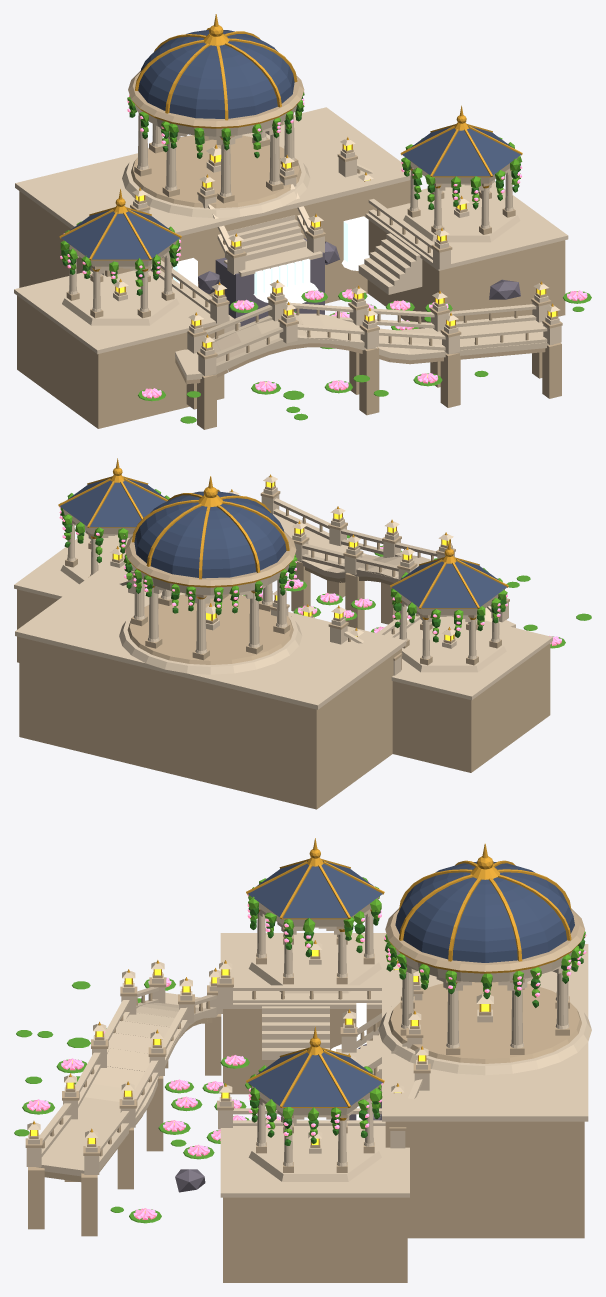
Rendered from lotus-garden.glb.
3 views of the same model, one above another, from view 1: azimuth 30°, elevation 25°; view 2: azimuth 150°, elevation 25°; view 3: azimuth 270°, elevation 25° (orthographic). The views are drawn at different scales.
Parts seen in each view (by area): view 1: Lotus_Marble_Cream, Lotus_Marble_Dark, Lotus_Slate_Roof, Lotus_Gold_Trim, Lotus_Waterfall_Foam, Lotus_Rock_Grey, Lotus_Foliage_Bright, Lotus_Pad_Green, Lotus_Flower_Pink, Lotus_Foliage_Dark, Lotus_Lantern_Glow; view 2: Lotus_Marble_Dark, Lotus_Marble_Cream, Lotus_Slate_Roof, Lotus_Gold_Trim, Lotus_Foliage_Bright, Lotus_Foliage_Dark, Lotus_Flower_Pink, Lotus_Pad_Green, Lotus_Lantern_Glow; view 3: Lotus_Marble_Cream, Lotus_Marble_Dark, Lotus_Slate_Roof, Lotus_Gold_Trim, Lotus_Foliage_Bright, Lotus_Flower_Pink, Lotus_Pad_Green, Lotus_Foliage_Dark, Lotus_Lantern_Glow, Lotus_Rock_Grey.
Part boxes in pixels (x1,y1,x2,y2): Lotus_Marble_Cream: (14,104,568,380); Lotus_Marble_Dark: (17,71,565,429); Lotus_Slate_Roof: (61,30,520,259); Lotus_Gold_Trim: (59,14,557,348); Lotus_Waterfall_Foam: (173,216,369,303); Lotus_Rock_Grey: (198,238,520,326); Lotus_Foliage_Bright: (60,92,522,286); Lotus_Pad_Green: (138,289,591,423); Lotus_Flower_Pink: (60,91,587,398); Lotus_Foliage_Dark: (61,96,520,295); Lotus_Lantern_Glow: (116,144,556,347); Lotus_Marble_Dark: (17,485,550,809); Lotus_Marble_Cream: (14,476,552,709); Lotus_Slate_Roof: (60,478,506,608); Lotus_Gold_Trim: (58,458,508,641); Lotus_Foliage_Bright: (60,489,507,635); Lotus_Foliage_Dark: (60,511,506,642); Lotus_Flower_Pink: (59,507,561,645); Lotus_Pad_Green: (243,535,591,648); Lotus_Lantern_Glow: (113,482,453,640); Lotus_Marble_Cream: (26,897,591,1197); Lotus_Marble_Dark: (25,908,584,1282); Lotus_Slate_Roof: (248,861,574,1106); Lotus_Gold_Trim: (30,838,580,1145); Lotus_Foliage_Bright: (248,877,585,1136); Lotus_Flower_Pink: (26,880,586,1219); Lotus_Pad_Green: (14,978,266,1223); Lotus_Foliage_Dark: (248,907,585,1145); Lotus_Lantern_Glow: (31,950,489,1144); Lotus_Rock_Grey: (175,1044,381,1192).
Size of the model in its own units: 25.4 by 14.09 by 23.82.
